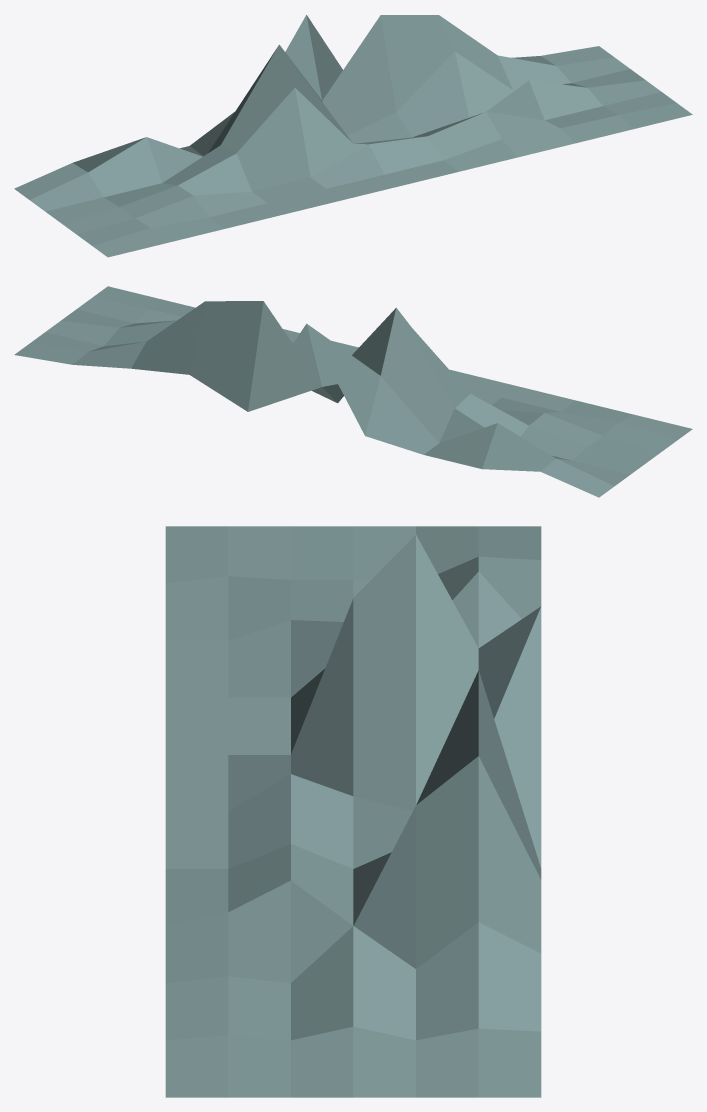
The model's file is landscape.gltf.
3 renders of one model, top to bottom at view 1: azimuth 30°, elevation 25°; view 2: azimuth 150°, elevation 25°; view 3: azimuth 270°, elevation 25°, orthographic. The views are drawn at different scales.
Visible parts, largest first — view 1: Landscape; view 2: Landscape; view 3: Landscape.
Boxes of the visible parts, x1,y1,x2,y2 form: Landscape: (14, 15, 692, 257); Landscape: (14, 286, 692, 497); Landscape: (165, 526, 541, 1097).
Bounding box in the file's own units: 600 × 108 × 167.
